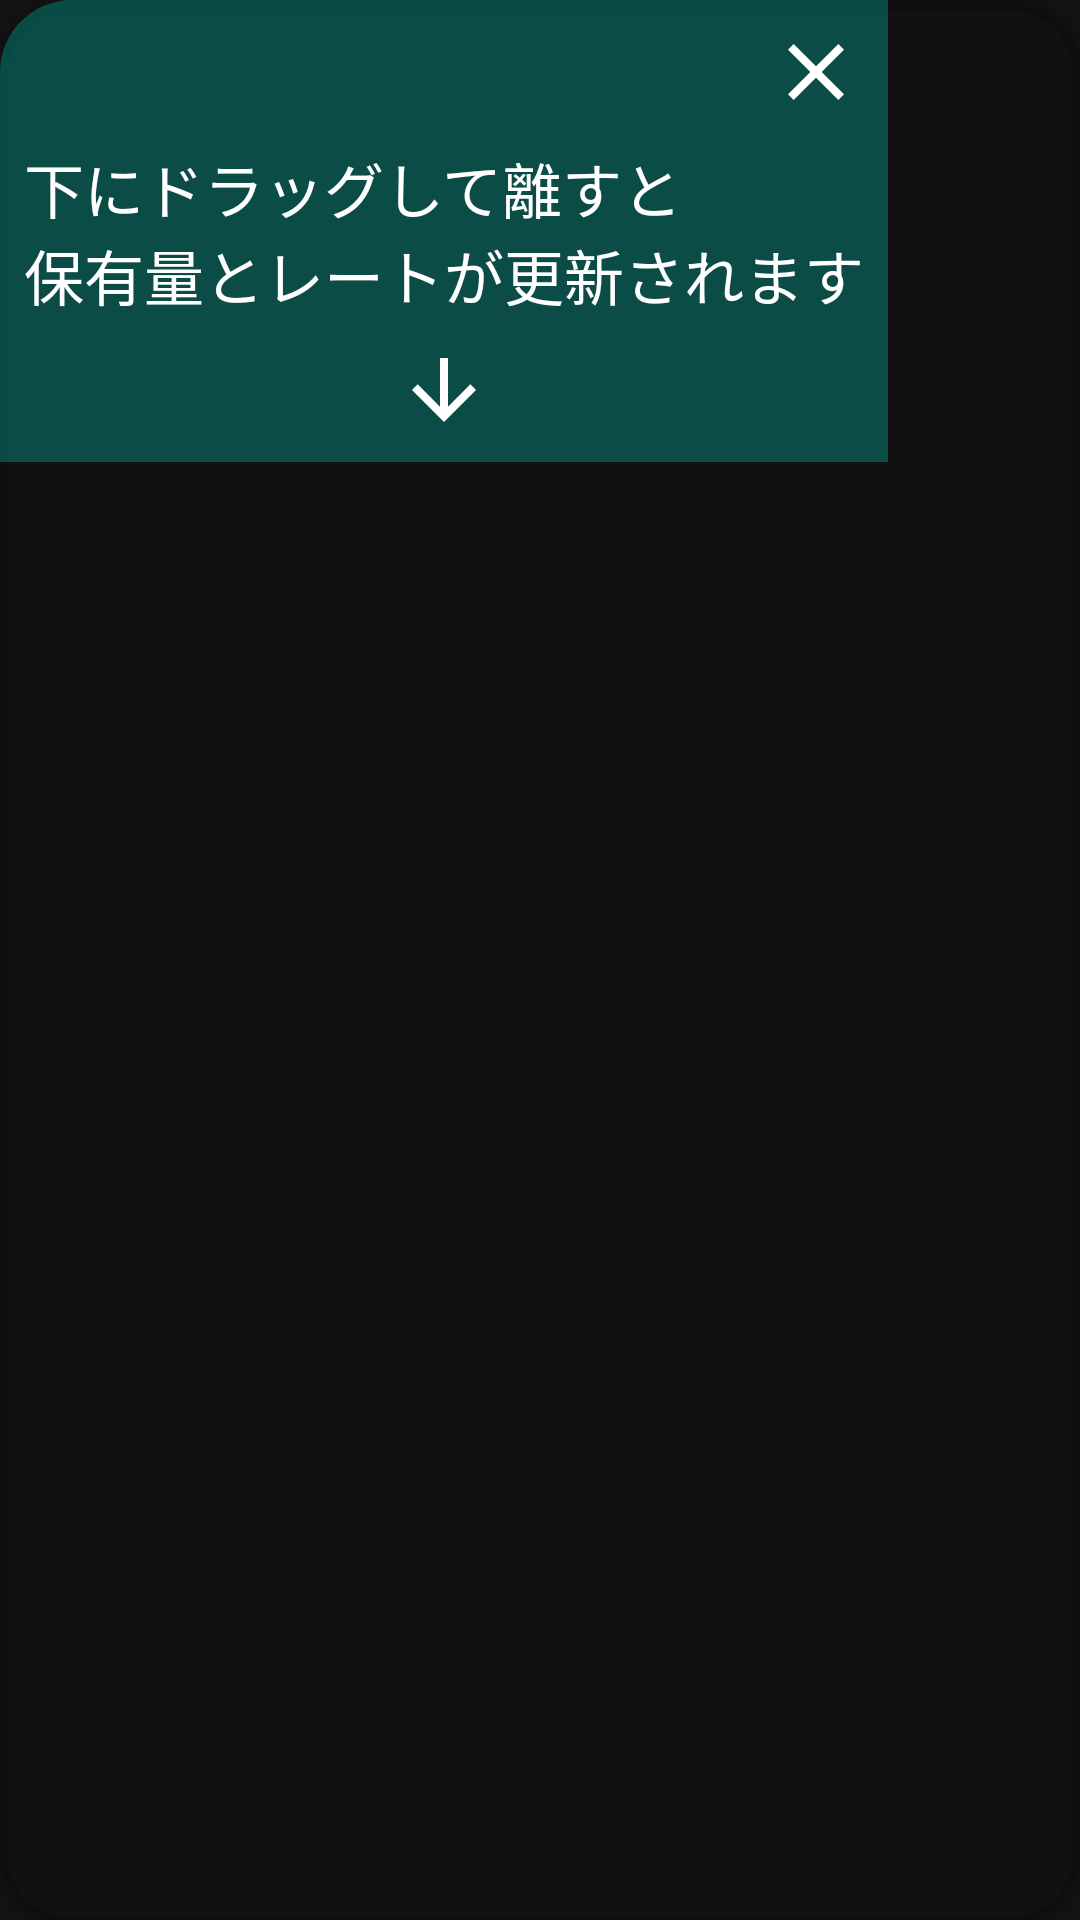

Icon click points for this 1080 × 1920 phone screenshot, format [x,y]:
arrow downward: [444,390]
